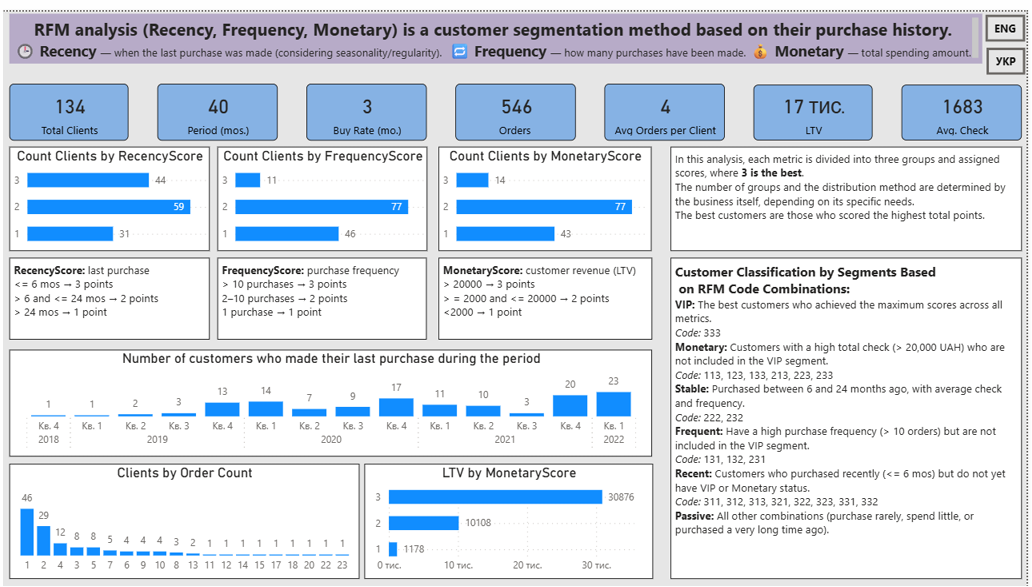

The dashboard page shown, as its layout file describes it:
{"tool":"powerbi","page":{"name":"RFM info","canvas":[1280,720],"ordinal":8},"visuals":[{"type":"textbox","title":"Заголовок eng","box":[8.7,2.9,1216.1,62.2],"z":0,"group":"g1"},{"type":"card","fields":{"Values":["_DAX_measures_.Total Orders"]},"box":[566.1,89.7,150.4,70.9],"z":0,"group":"g2"},{"type":"clusteredColumnChart","title":"Number of customers who made their last purchase during the period","fields":{"Category":["sells.last_date.Варіація.Ієрархія дат.Рік","sells.last_date.Варіація.Ієрархія дат.Квартал","sells.last_date.Варіація.Ієрархія дат.Місяць"],"Y":["_DAX_measures_.Total Clients"]},"box":[8.1,422.1,803.5,133.7],"z":0},{"type":"card","title":"середній чек","fields":{"Values":["_DAX_measures_.Average Check"]},"box":[1123.6,91.1,150.4,69.4],"z":1000,"group":"g2"},{"type":"clusteredBarChart","title":"Count Clients by RecencyScore","fields":{"Category":["sells.RecencyScore"],"Y":["_DAX_measures_.Total Clients"]},"box":[9.3,168.6,250,130.2],"z":1000},{"type":"textbox","title":"R eng","box":[8.7,308,250.2,102.7],"z":1000,"group":"g1"},{"type":"card","fields":{"Values":["_DAX_measures_.LTV"]},"box":[938.7,91.1,148.9,69.4],"z":2000,"group":"g2"},{"type":"clusteredBarChart","title":"Count Clients by FrequencyScore","fields":{"Category":["sells.FrequencyScore"],"Y":["_DAX_measures_.Total Clients"]},"box":[268.6,168.6,262.8,130.2],"z":2000},{"type":"textbox","title":"F eng","box":[269,308,261.7,102.7],"z":2000,"group":"g1"},{"type":"card","fields":{"Values":["_DAX_measures_.AvgIntMonths"]},"box":[379.8,89.7,150.4,70.9],"z":3000,"group":"g2"},{"type":"clusteredBarChart","title":"Count Clients by MonetaryScore","fields":{"Y":["_DAX_measures_.Total Clients"],"Category":["sells.MonetaryScore"]},"box":[545.4,168.6,266.3,130.2],"z":3000},{"type":"textbox","title":"M eng","box":[545.2,308,267.5,102.7],"z":3000,"group":"g1"},{"type":"card","fields":{"Values":["_DAX_measures_.Total Clients"]},"box":[8.7,89.7,148.9,70.9],"z":4000,"group":"g2"},{"type":"textbox","title":"Пояснення eng","box":[834.4,169.2,439.6,130.1],"z":4000,"group":"g1"},{"type":"clusteredColumnChart","title":"Clients by Order Count","fields":{"Y":["_DAX_measures_.Total Clients"],"Category":["sells.client_order"]},"box":[8.1,565.1,437.2,144.2],"z":4000},{"type":"card","fields":{"Values":["_DAX_measures_.TotalMonths"]},"box":[193.5,89.7,150.4,70.9],"z":5000,"group":"g2"},{"type":"textbox","title":"Групи eng","box":[834.4,308,439.6,402],"z":5000,"group":"g1"},{"type":"clusteredBarChart","title":"LTV by MonetaryScore","fields":{"Category":["sells.MonetaryScore"],"Y":["_DAX_measures_.LTV"]},"box":[452.3,565.1,360.5,144.2],"z":5000},{"type":"actionButton","box":[1229.3,3.4,49.6,33.8],"z":6000},{"type":"card","fields":{"Values":["_DAX_measures_.Avg Orders per Client"]},"box":[752.4,89.7,150.4,70.9],"z":6000,"group":"g2"},{"type":"actionButton","box":[1230.4,45.1,48.5,33.8],"z":7000},{"type":"group","id":"g1","title":"ENG","box":[8.7,2.9,1265.3,707.1],"z":8000},{"type":"group","id":"g2","title":"Картки","box":[8.7,89.7,1265.3,70.9],"z":10000}]}

Visuals, with their boxes in screenshot pixels (x1, y1, x2, y2), scaled from the page's 1280x720 canvas onto the 1032x587 screenshot:
"Заголовок eng" textbox: rect(7, 2, 987, 53)
card - _DAX_measures_.Total Orders: rect(456, 73, 578, 131)
"Number of customers who made their last purchase during the period" clusteredColumnChart: rect(7, 344, 654, 453)
"середній чек" card: rect(906, 74, 1027, 131)
"Count Clients by RecencyScore" clusteredBarChart: rect(7, 137, 209, 244)
"R eng" textbox: rect(7, 251, 209, 335)
card - _DAX_measures_.LTV: rect(757, 74, 877, 131)
"Count Clients by FrequencyScore" clusteredBarChart: rect(217, 137, 428, 244)
"F eng" textbox: rect(217, 251, 428, 335)
card - _DAX_measures_.AvgIntMonths: rect(306, 73, 427, 131)
"Count Clients by MonetaryScore" clusteredBarChart: rect(440, 137, 654, 244)
"M eng" textbox: rect(440, 251, 655, 335)
card - _DAX_measures_.Total Clients: rect(7, 73, 127, 131)
"Пояснення eng" textbox: rect(673, 138, 1027, 244)
"Clients by Order Count" clusteredColumnChart: rect(7, 461, 359, 578)
card - _DAX_measures_.TotalMonths: rect(156, 73, 277, 131)
"Групи eng" textbox: rect(673, 251, 1027, 579)
"LTV by MonetaryScore" clusteredBarChart: rect(365, 461, 655, 578)
actionButton: rect(991, 3, 1031, 30)
card - _DAX_measures_.Avg Orders per Client: rect(607, 73, 728, 131)
actionButton: rect(992, 37, 1031, 64)
"ENG" group: rect(7, 2, 1027, 579)
"Картки" group: rect(7, 73, 1027, 131)
